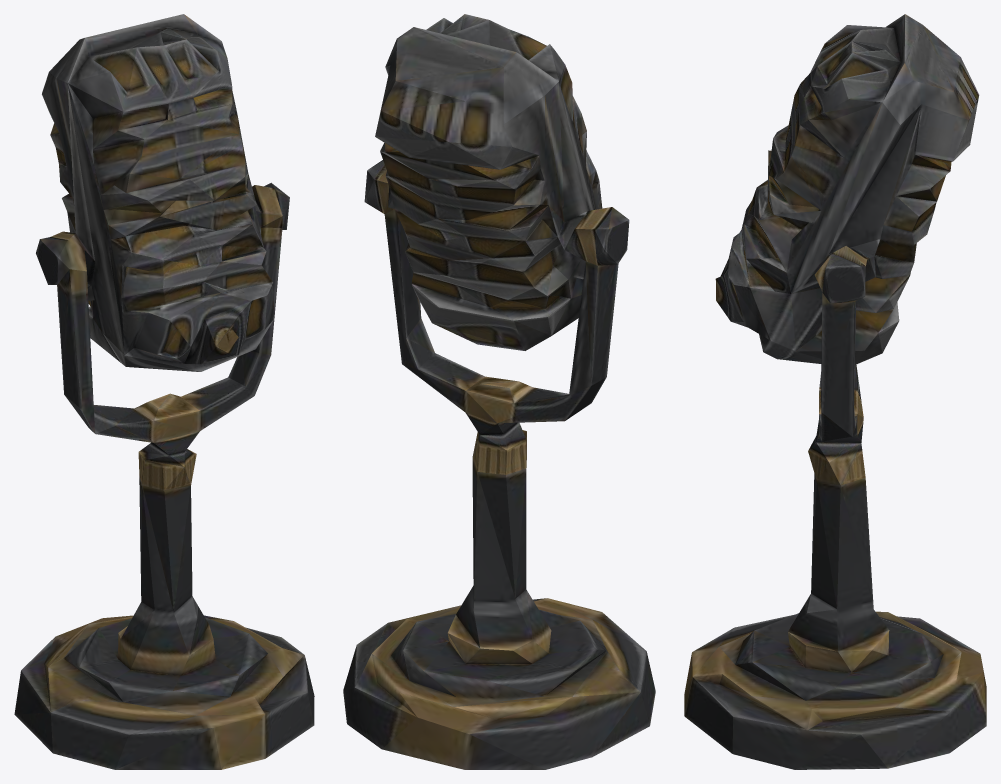
Rendered from microfone_estudio.glb.
3 renders of one model, left to right at view 1: azimuth 30°, elevation 25°; view 2: azimuth 150°, elevation 25°; view 3: azimuth 270°, elevation 25°, orthographic. The views are drawn at different scales.
Parts seen in each view (by area): view 1: Mesh_0; view 2: Mesh_0; view 3: Mesh_0.
Part boxes in pixels (x1,y1,x2,y2): Mesh_0: (14, 14, 314, 769); Mesh_0: (343, 14, 655, 769); Mesh_0: (684, 14, 986, 769).
Size of the model in its own units: 0.6447 by 1.6 by 0.6541.
1 material, 1 textured.
